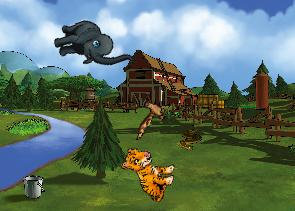eagle: (131, 91, 170, 140)
elephant: (49, 8, 133, 83)
tiger: (114, 144, 180, 204)
